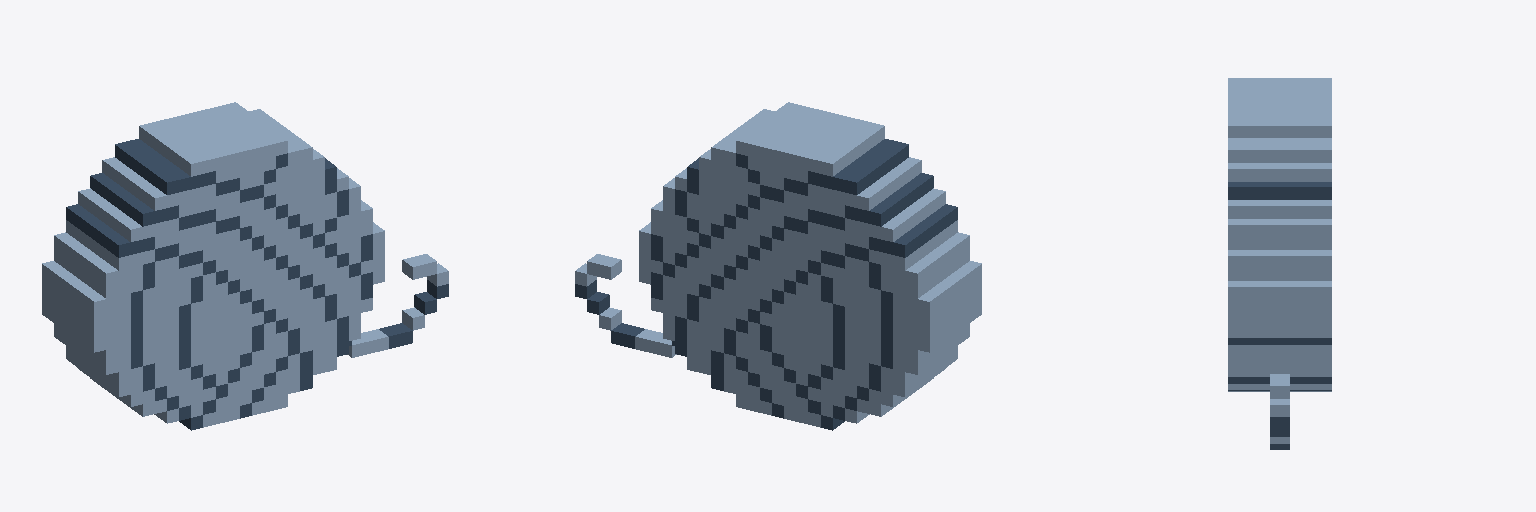
The model's file is SilverYarn.obj.
3 renders of one model, left to right at view 1: azimuth 30°, elevation 25°; view 2: azimuth 150°, elevation 25°; view 3: azimuth 270°, elevation 25°, orthographic.
Bounding box in the file's own units: 31 × 21 × 7.5.